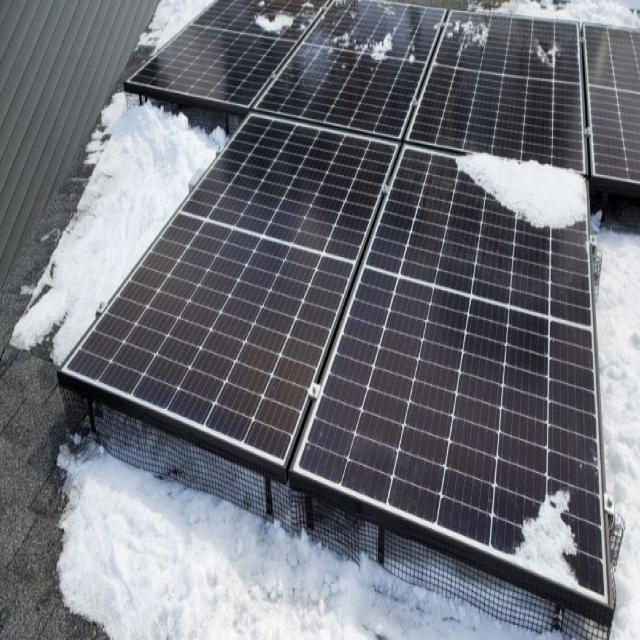Anomaly Solar Panel: (295, 142, 611, 605), (405, 10, 585, 174), (254, 1, 447, 139), (128, 0, 331, 107)
Normal Solar Panel: (65, 113, 398, 463), (584, 23, 640, 182)
Snow: (456, 144, 589, 236), (512, 484, 587, 598), (323, 24, 403, 67), (438, 21, 496, 54), (243, 14, 306, 42), (532, 36, 564, 69)
